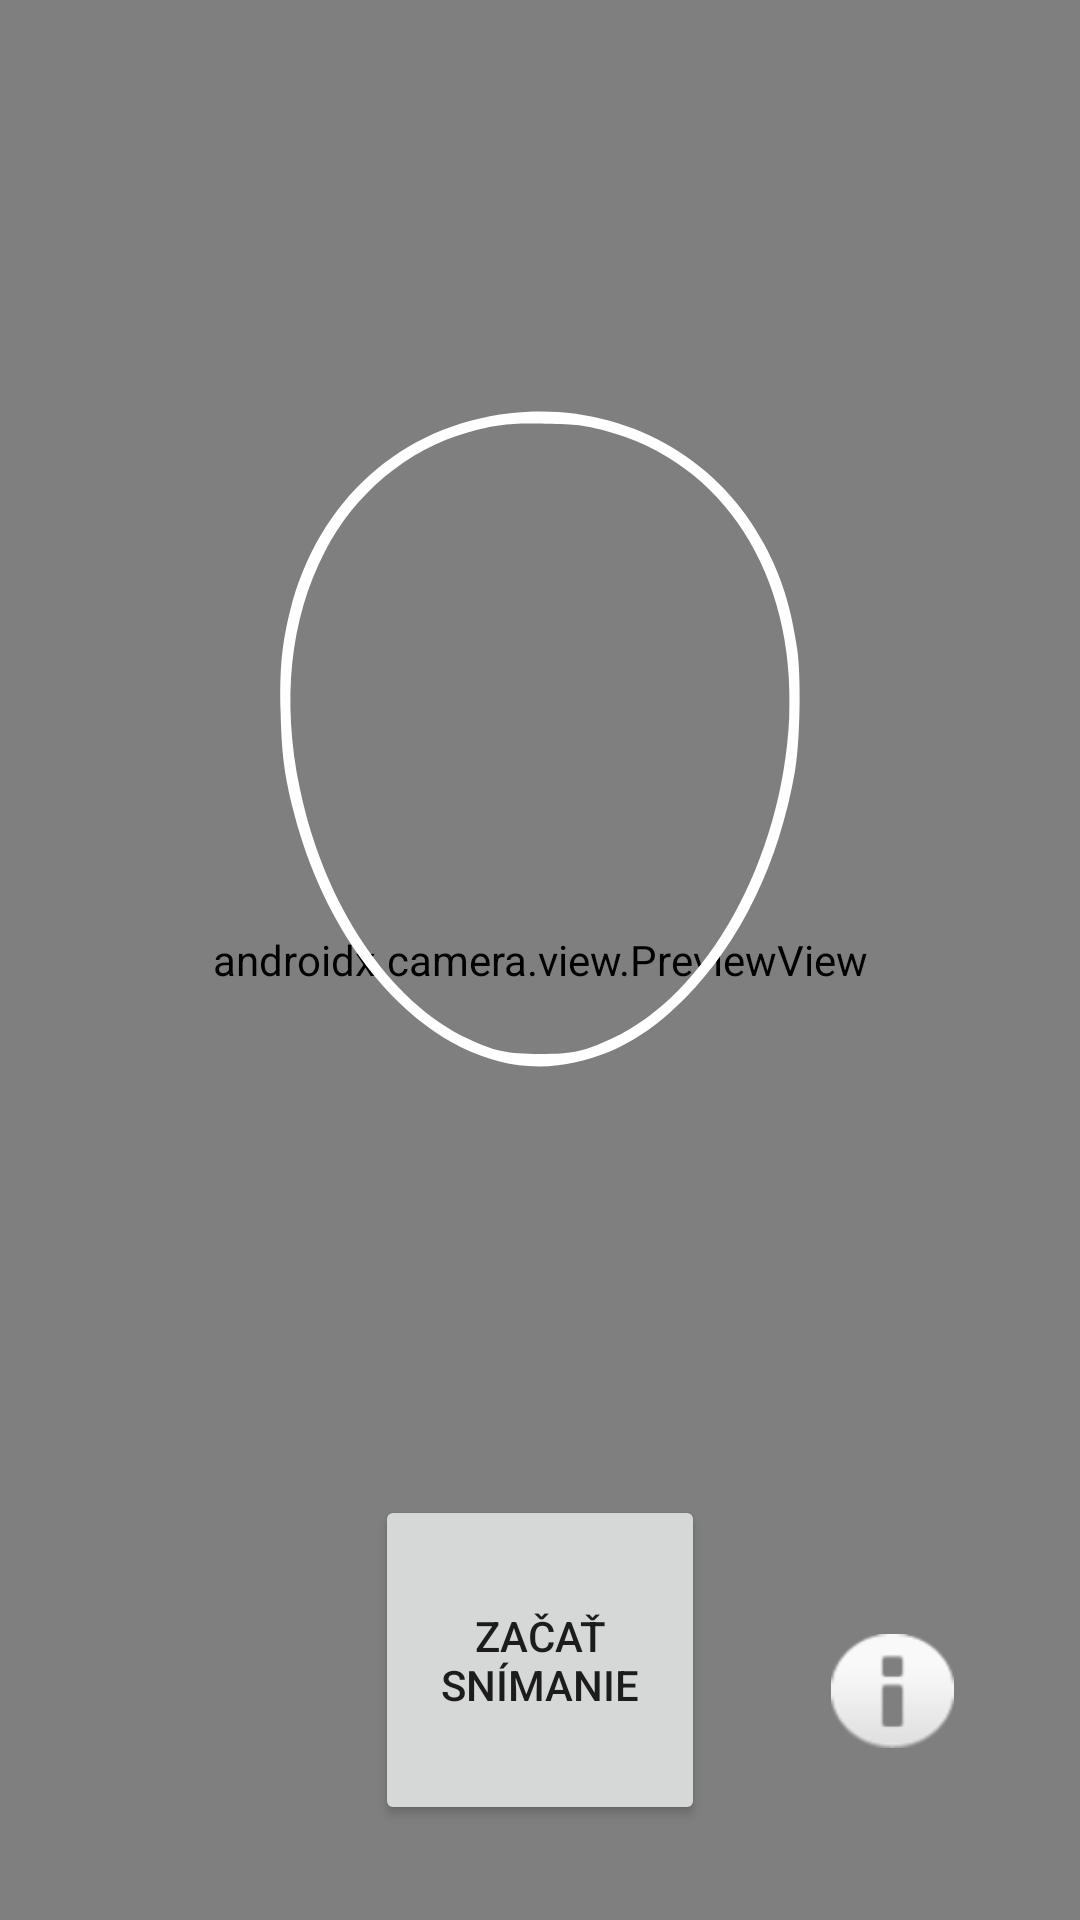

Screen size 1080 x 1920. Icon name, then its box in pixels as rect(x1, y1, x2, y2):
info: rect(831, 1634, 954, 1748)
